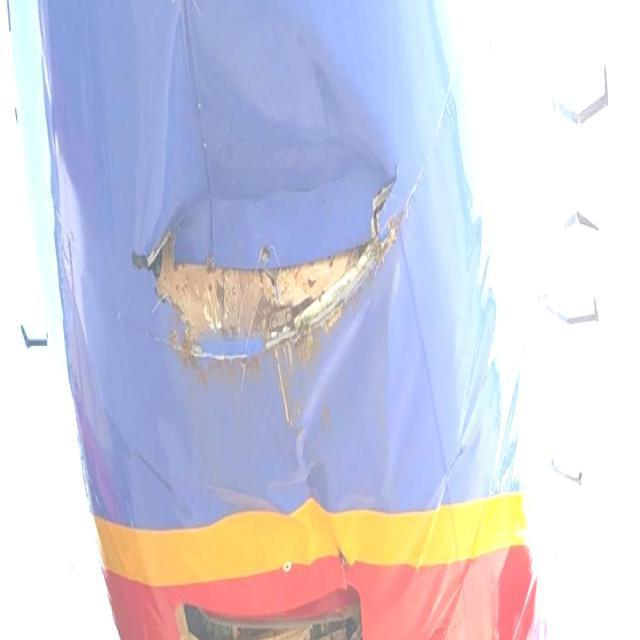crack: (145, 165, 422, 374)
